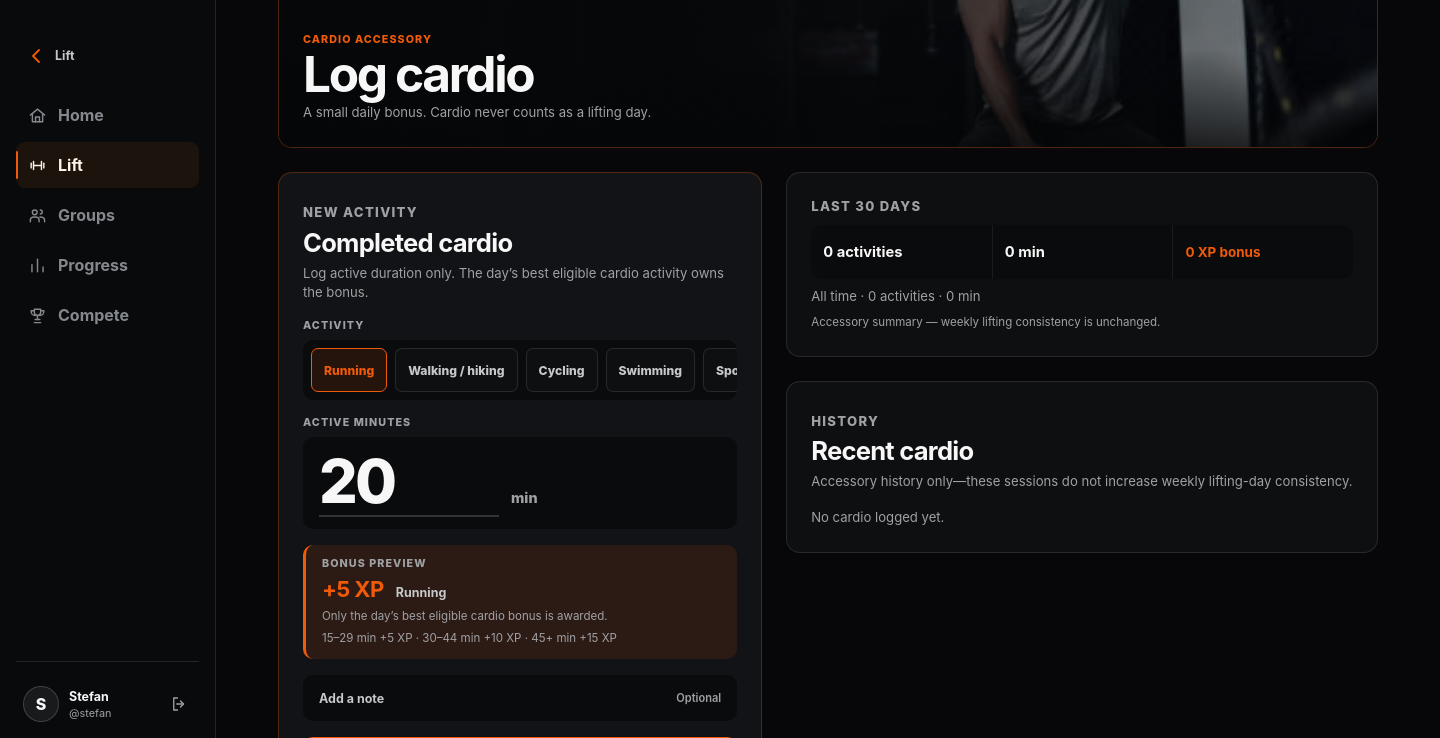
Test: cardio accessory integration journey › logs and deletes secondary cardio without presenting it as a lifting day
Expected: the heading "Log cardio" is shown, top-left (303, 44), bottom-right (533, 104)
Expected: the text "A small daily bonus. Cardio never counts as a lifting day." is shown, top-left (303, 103), bottom-right (651, 123)
Click the button "Cycling" at (562, 370), box top-left (526, 348), bottom-right (598, 392)
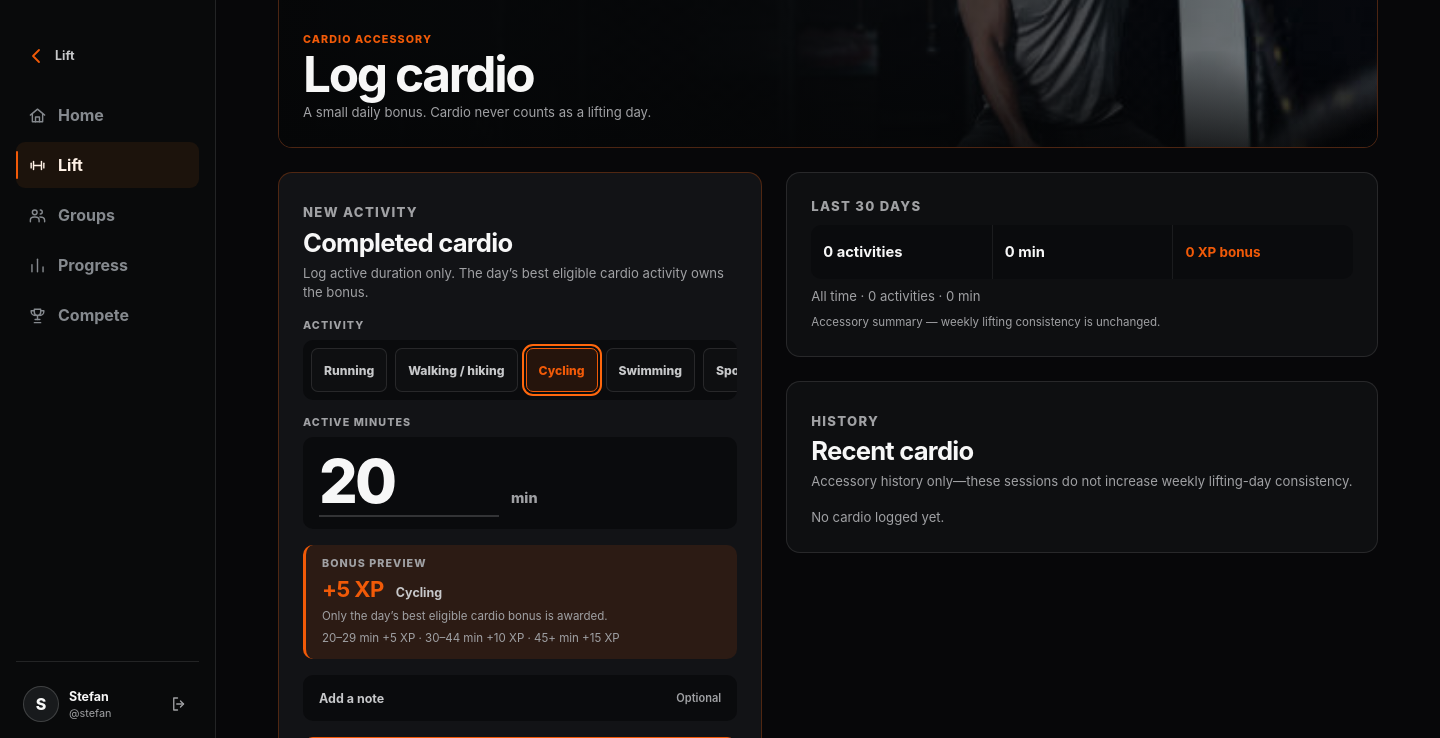
Replace the text in the number field labelled "Active minutes" with "30" at (409, 483), box top-left (319, 449), bottom-right (499, 517)
(page scrolled)
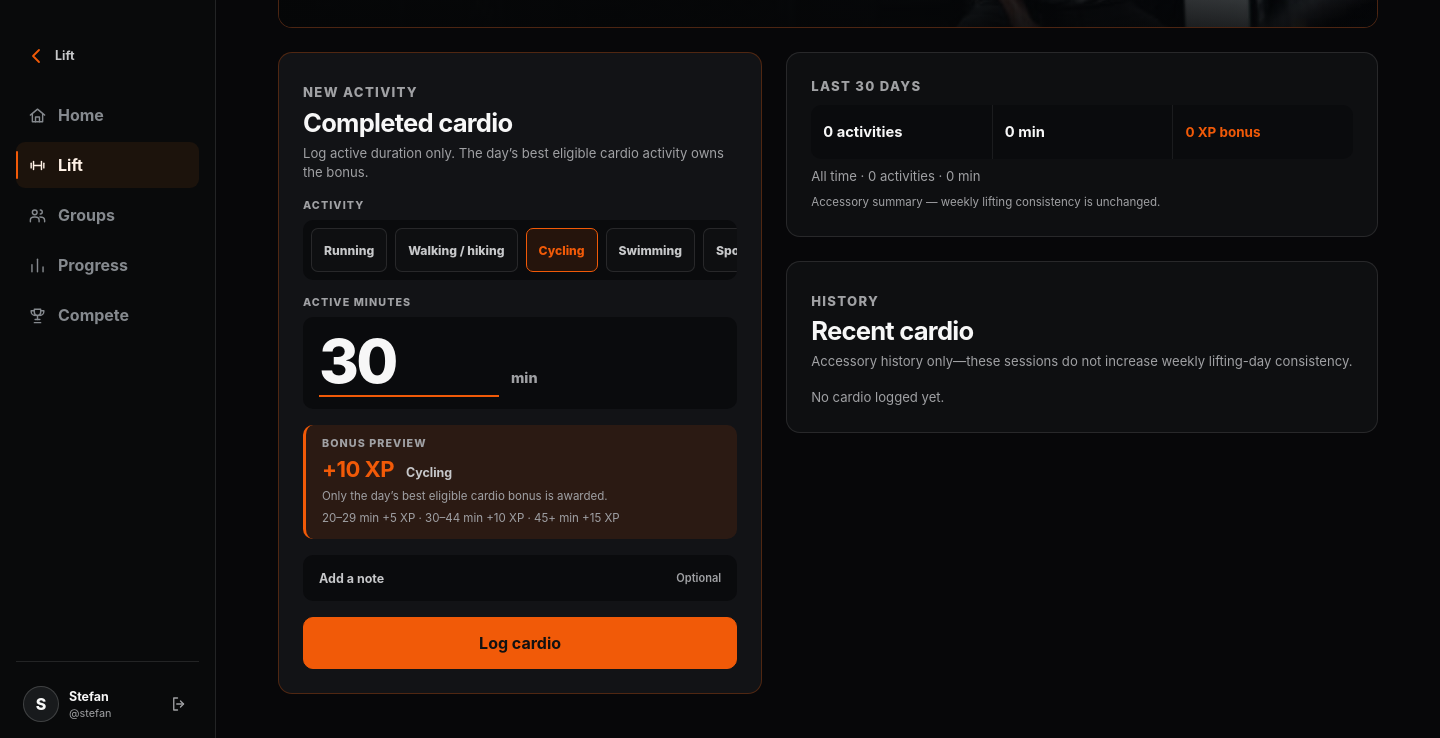
Click the button "Log cardio" at (520, 643), box top-left (303, 617), bottom-right (737, 669)
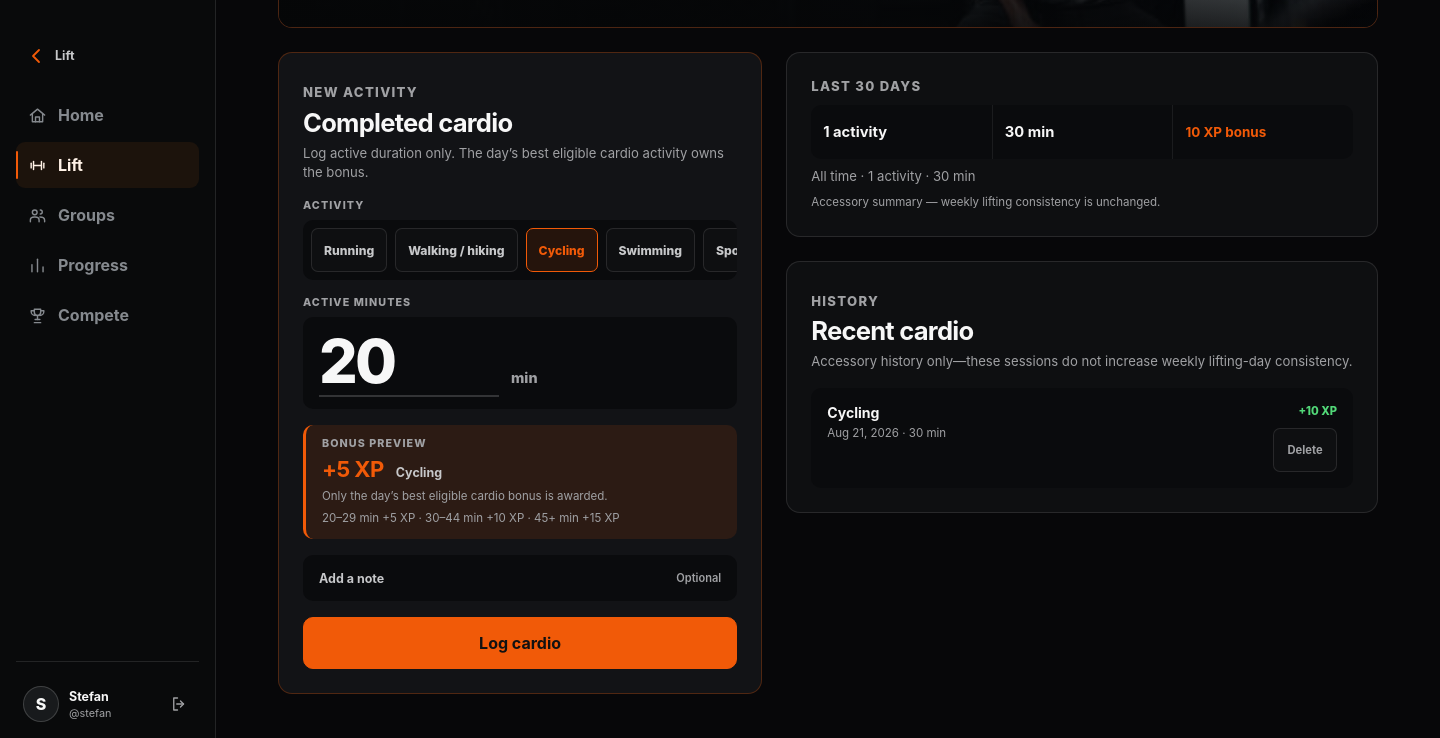
Expected: the text "+10 XP" is shown, top-left (1298, 404), bottom-right (1337, 420)
Expected: the text "Cycling" below "Recent cardio" is shown, top-left (827, 404), bottom-right (880, 421)
Expected: the text "10 XP bonus" is shown, top-left (1172, 105), bottom-right (1353, 159)
Click the button with aria-label "Delete Cycling" at (1305, 450), box top-left (1273, 428), bottom-right (1337, 472)
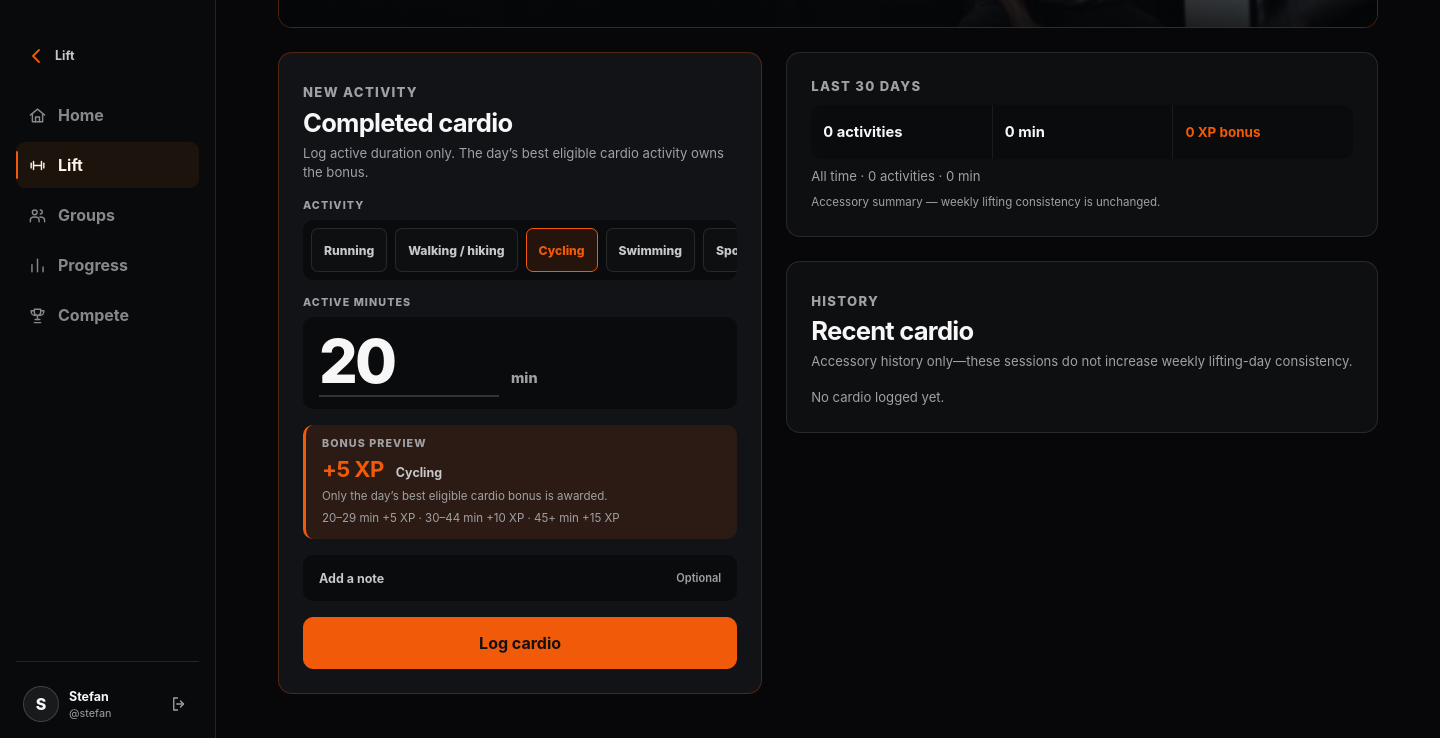
Expected: the text "No cardio logged yet." is shown, top-left (811, 389), bottom-right (944, 405)
